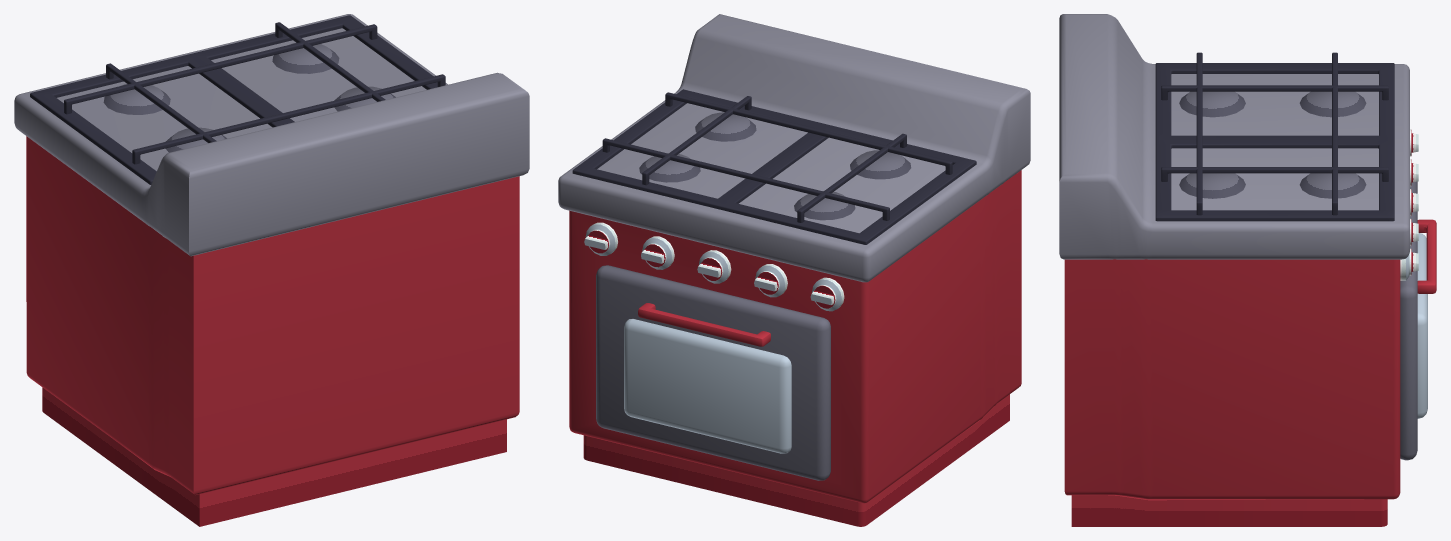
File: horno.fbx
3 views of the same model, side by side, from view 1: azimuth 30°, elevation 25°; view 2: azimuth 150°, elevation 25°; view 3: azimuth 270°, elevation 25° (orthographic). The views are drawn at different scales.
Parts seen in each view (by area): view 1: cocina.001; view 2: cocina.001, cocinapuerta.001; view 3: cocina.001, cocinapuerta.001.
Boxes of the visible parts, x1,y1,x2,y2 form: cocina.001: [14, 14, 529, 526]; cocina.001: [558, 14, 1030, 526]; cocinapuerta.001: [596, 265, 830, 480]; cocina.001: [1059, 14, 1418, 526]; cocinapuerta.001: [1400, 181, 1436, 460].
Size of the model in its own units: 209 by 212 by 202.
